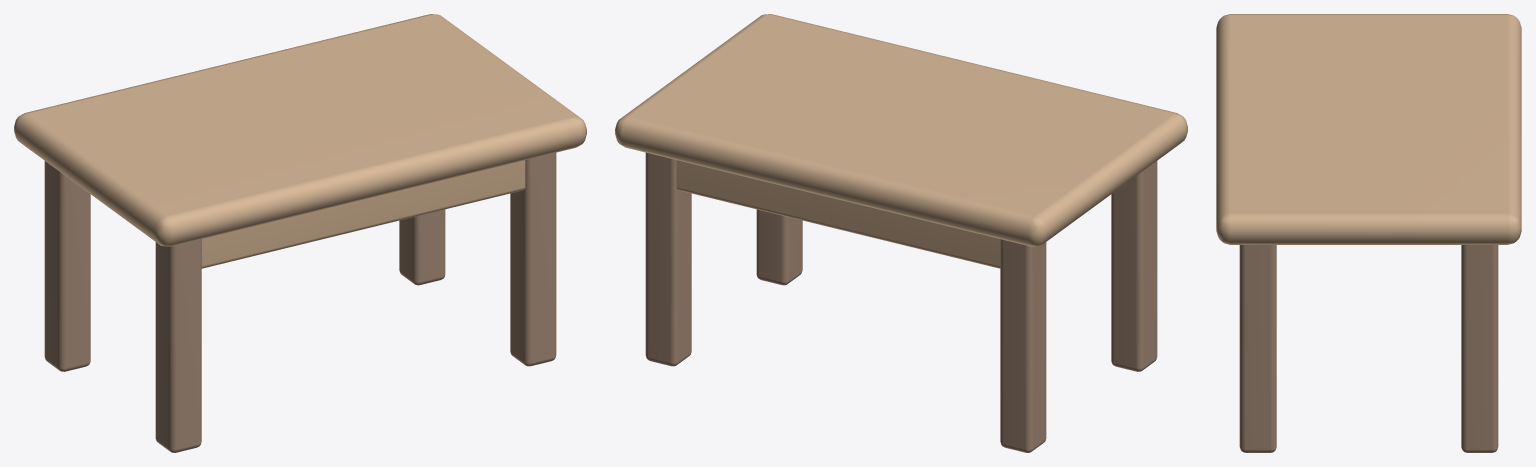
File: Table.fbx
The picture shows the model from 3 angles, left to right: view 1: azimuth 30°, elevation 25°; view 2: azimuth 150°, elevation 25°; view 3: azimuth 270°, elevation 25°; orthographic projection.
Visible parts, largest first — view 1: Tabletop, Apron, Leg, Leg.002, Leg.001, Leg.003; view 2: Tabletop, Apron.001, Leg.001, Leg.003, Leg, Leg.002; view 3: Tabletop, Leg.002, Leg.003.
Part boxes in pixels (x1=…): Tabletop: x1=14, y1=14, x2=586, y2=246; Apron: x1=201, y1=160, x2=525, y2=268; Leg: x1=155, y1=239, x2=201, y2=452; Leg.002: x1=510, y1=152, x2=556, y2=366; Leg.001: x1=44, y1=161, x2=90, y2=371; Leg.003: x1=399, y1=209, x2=445, y2=285; Tabletop: x1=615, y1=14, x2=1187, y2=246; Apron.001: x1=676, y1=160, x2=1000, y2=268; Leg.001: x1=1000, y1=239, x2=1046, y2=452; Leg.003: x1=645, y1=152, x2=691, y2=366; Leg: x1=1111, y1=161, x2=1157, y2=371; Leg.002: x1=756, y1=209, x2=802, y2=285; Tabletop: x1=1216, y1=14, x2=1521, y2=244; Leg.002: x1=1239, y1=245, x2=1276, y2=452; Leg.003: x1=1461, y1=245, x2=1498, y2=452.
Bounding box in the file's own units: 148 × 81 × 91.
